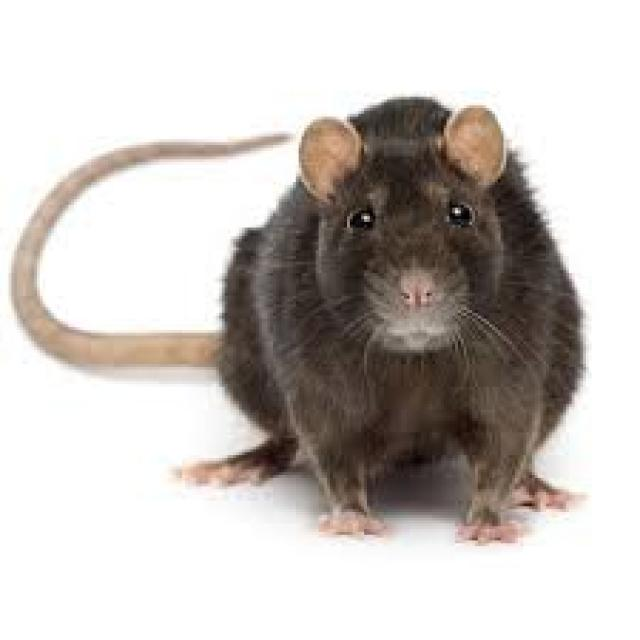rat: (11, 97, 580, 540)
